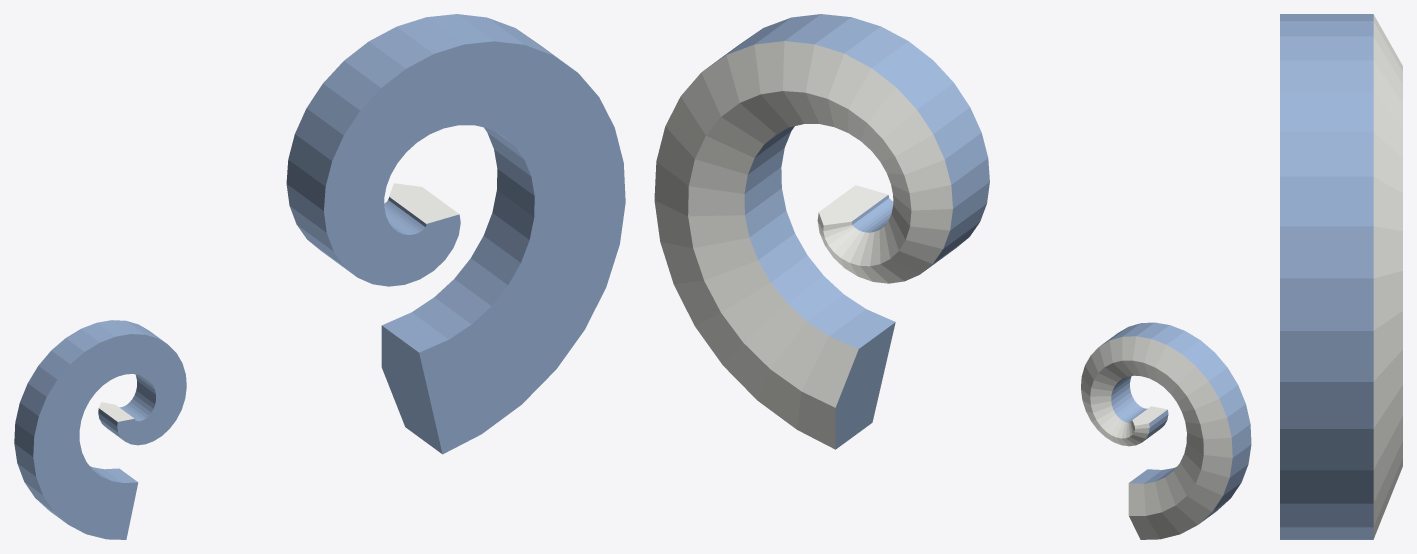
3 renders of one model, left to right at view 1: azimuth 30°, elevation 25°; view 2: azimuth 150°, elevation 25°; view 3: azimuth 270°, elevation 25°, orthographic. The views are drawn at different scales.
Parts seen in each view (by area): view 1: 背面补全卷纸.001; view 2: 背面补全卷纸.001; view 3: 背面补全卷纸.001.
Boxes of the visible parts, x1,y1,x2,y2 form: 背面补全卷纸.001: (14, 14, 625, 539); 背面补全卷纸.001: (654, 14, 1251, 539); 背面补全卷纸.001: (1280, 14, 1402, 539).
Bounding box in the file's own units: 1.79 × 1.26 × 0.2622.
